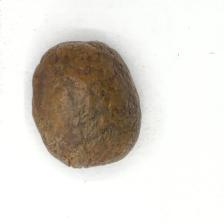NG: (48, 107, 129, 170)
